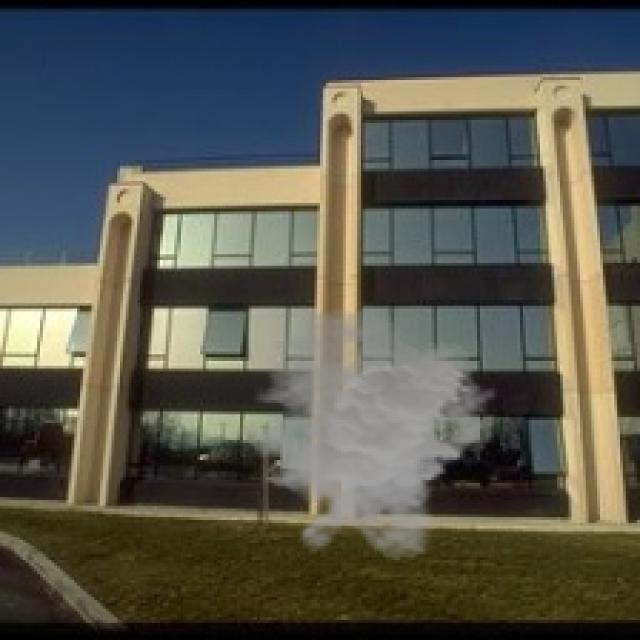Smoke: (228, 306, 501, 563)
